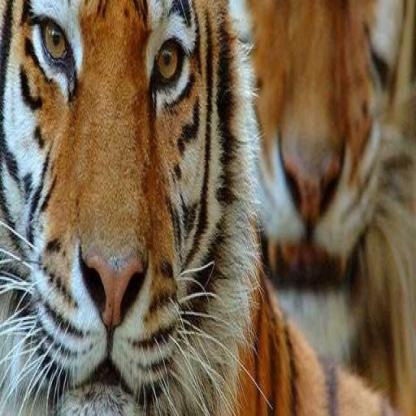Tiger: (0, 0, 292, 415)
